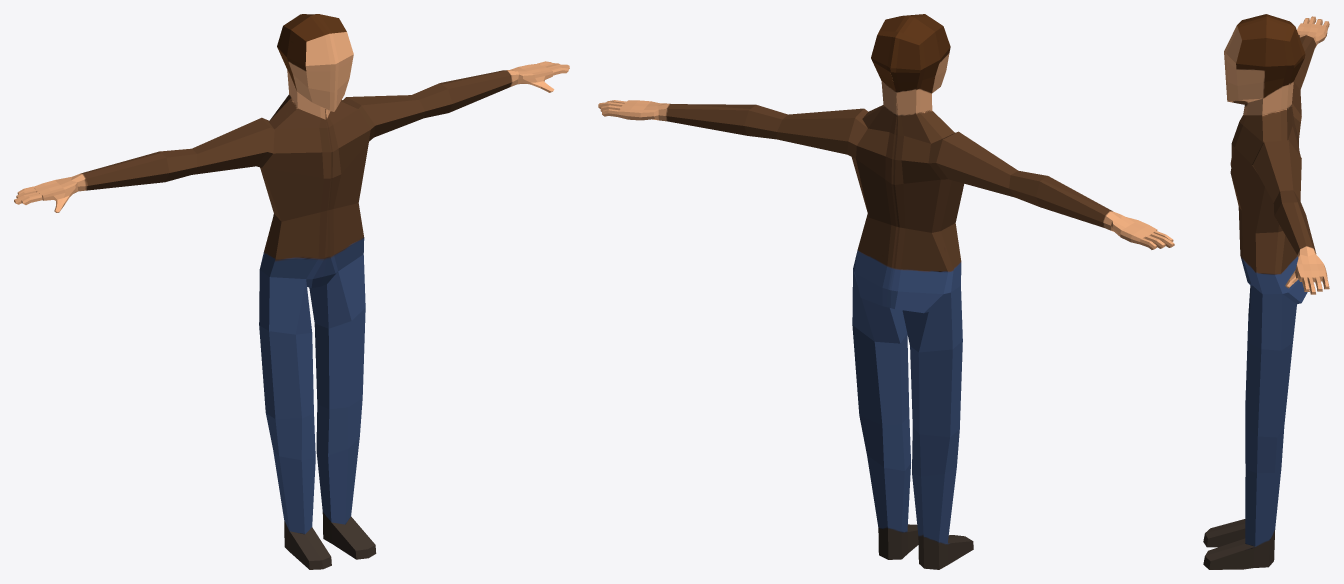
Rendered from salvatoreknox_model.fbx.
3 renders of one model, left to right at view 1: azimuth 30°, elevation 25°; view 2: azimuth 150°, elevation 25°; view 3: azimuth 270°, elevation 25°, orthographic. The views are drawn at different scales.
Parts seen in each view (by area): view 1: man_Salvatore; view 2: man_Salvatore; view 3: man_Salvatore.
Part boxes in pixels (x1,y1,x2,y2): man_Salvatore: [14, 14, 569, 569]; man_Salvatore: [598, 14, 1174, 569]; man_Salvatore: [1203, 14, 1329, 569].
Bounding box in the file's own units: 346 × 317 × 66.92.
